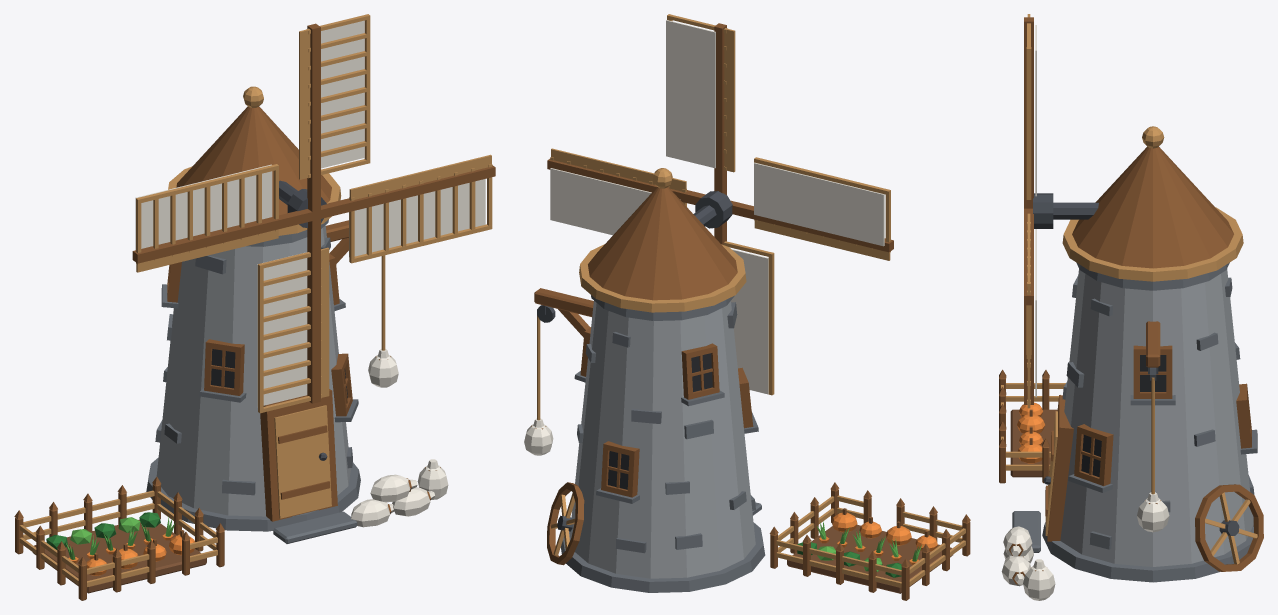
File: medieval-stone-windmill.glb
3 renders of one model, left to right at view 1: azimuth 30°, elevation 25°; view 2: azimuth 150°, elevation 25°; view 3: azimuth 270°, elevation 25°, orthographic. The views are drawn at different scales.
Parts seen in each view (by area): view 1: Sails, Tower, Garden_Fence, Garden_Bed, Door, Flour_Sacks, Door_Frame, Window_0, Sack_Hoist, Door_Step, Window_4, Window_1; view 2: Tower, Sails, Garden_Fence, Garden_Bed, Sack_Hoist, Cart_Wheel, Window_2, Window_1, Window_0; view 3: Tower, Sails, Cart_Wheel, Flour_Sacks, Garden_Bed, Garden_Fence, Window_4, Sack_Hoist, Window_3, Door_Frame, Window_2, Door_Step (+1 smaller).
Part boxes in pixels (box(x1,y1,x2,y2)): Sails: box(132, 14, 495, 413); Tower: box(146, 86, 360, 531); Garden_Fence: box(14, 476, 224, 600); Garden_Bed: box(32, 512, 206, 593); Door: box(274, 405, 331, 518); Flour_Sacks: box(351, 459, 448, 527); Door_Frame: box(260, 389, 337, 521); Window_0: box(199, 339, 246, 402); Sack_Hoist: box(326, 220, 398, 387); Door_Step: box(273, 511, 357, 543); Window_4: box(331, 353, 358, 422); Window_1: box(161, 262, 181, 308); Tower: box(560, 168, 765, 592); Sails: box(547, 14, 893, 395); Garden_Fence: box(769, 482, 970, 600); Garden_Bed: box(787, 508, 952, 593); Sack_Hoist: box(524, 288, 593, 455); Cart_Wheel: box(547, 482, 584, 565); Window_2: box(596, 441, 639, 503); Window_1: box(681, 343, 724, 406); Window_0: box(738, 367, 758, 433); Tower: box(1042, 126, 1254, 582); Sails: box(1024, 14, 1053, 408); Cart_Wheel: box(1195, 484, 1263, 571); Flour_Sacks: box(1001, 526, 1055, 600); Garden_Bed: box(1010, 402, 1057, 477); Garden_Fence: box(999, 369, 1065, 483); Window_4: box(1068, 424, 1113, 492); Sack_Hoist: box(1137, 321, 1169, 532); Window_3: box(1130, 345, 1175, 405); Door_Frame: box(1047, 395, 1073, 541); Window_2: box(1236, 383, 1257, 454); Door_Step: box(1012, 511, 1040, 552).
Bounding box in the file's own units: 24.78 × 28 × 13.03.
